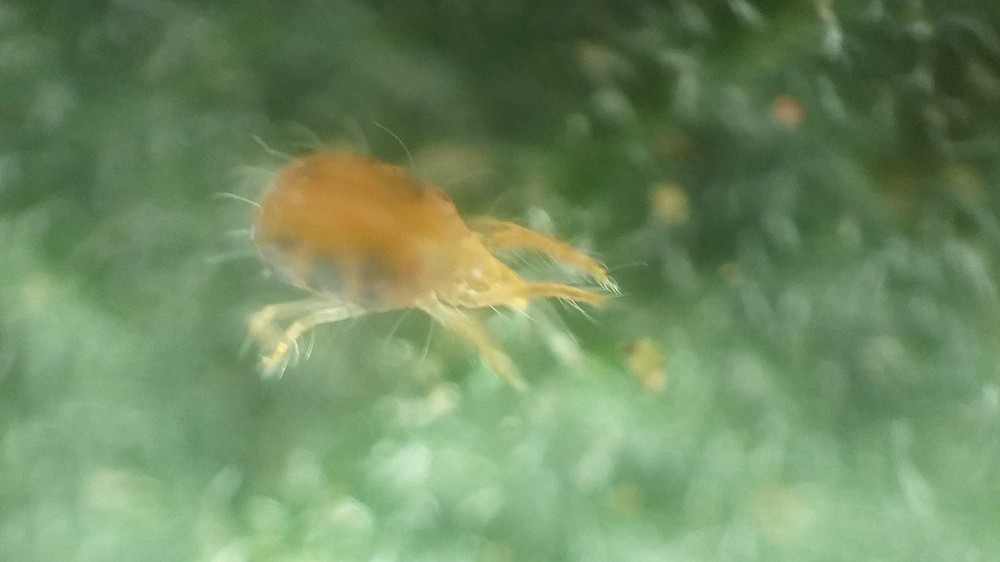Aracnido Rojo: (206, 104, 645, 409)
